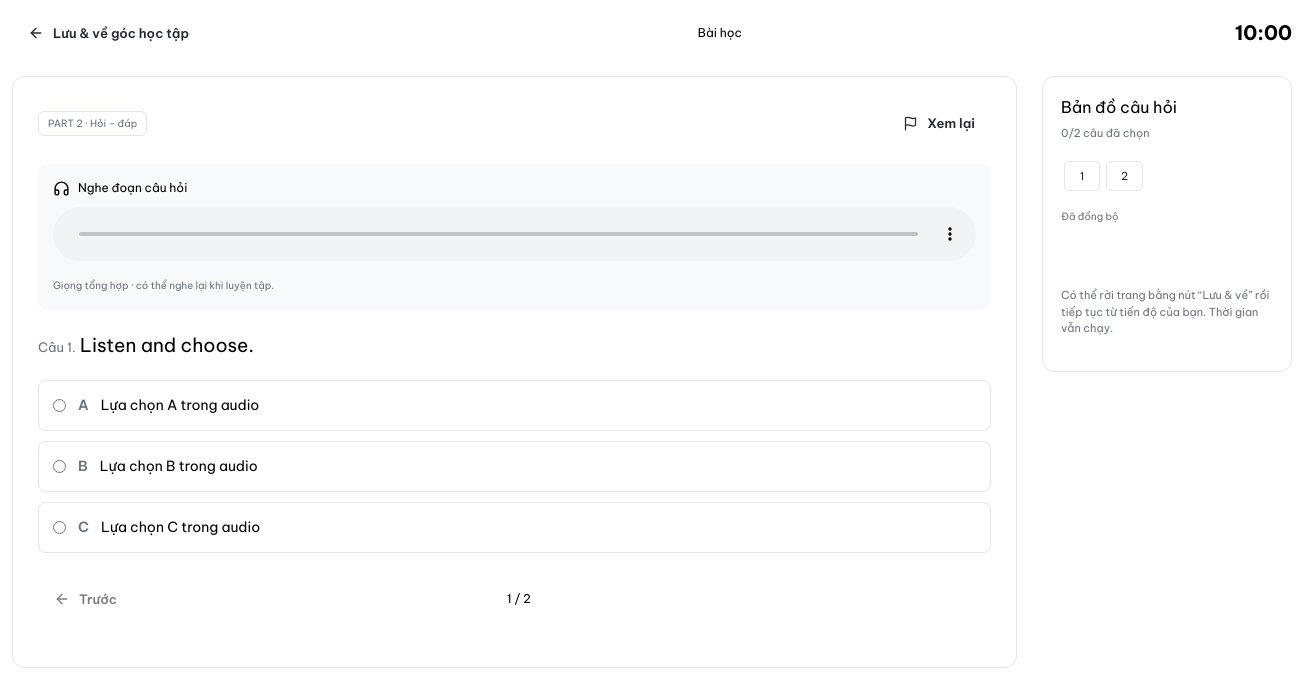
Scenario: keeps unsaved answers visible and prevents exit when saving fails
Click the radio button labelled "C Lựa chọn C trong audio".
click(60, 528)  # box [53,521,66,534]
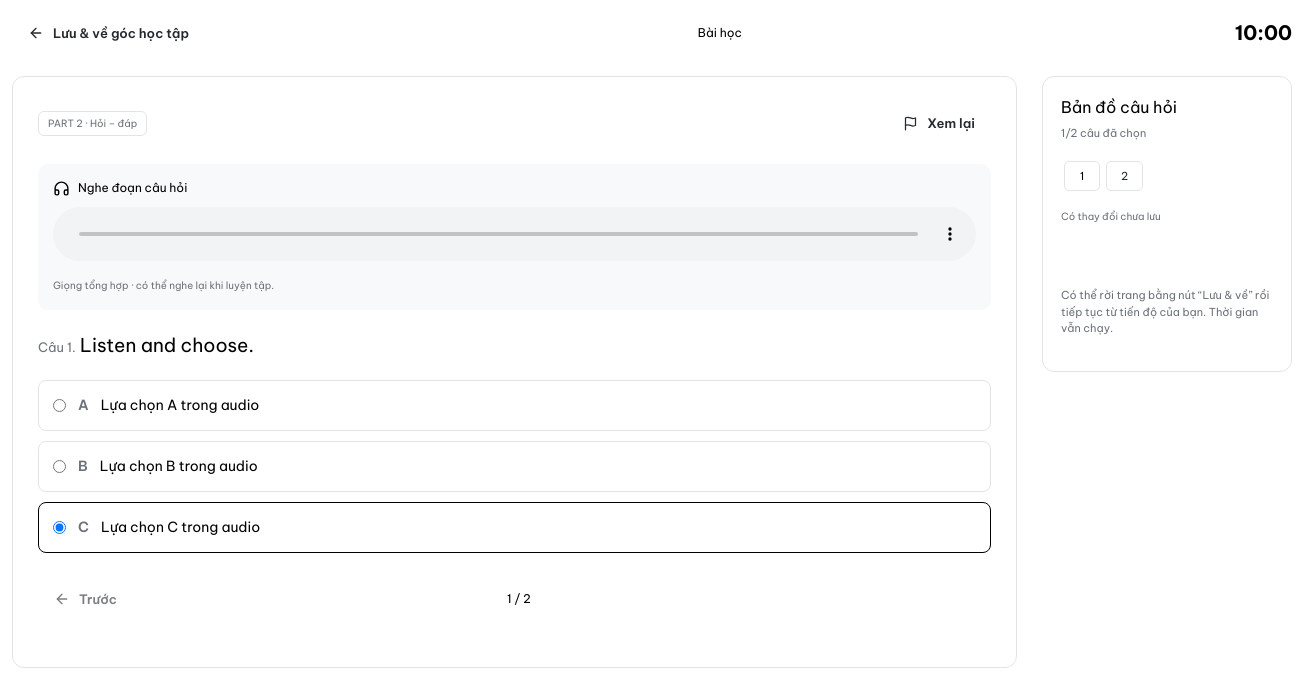
Click the button "Lưu & về góc học tập".
click(109, 33)  # box [12,12,205,54]
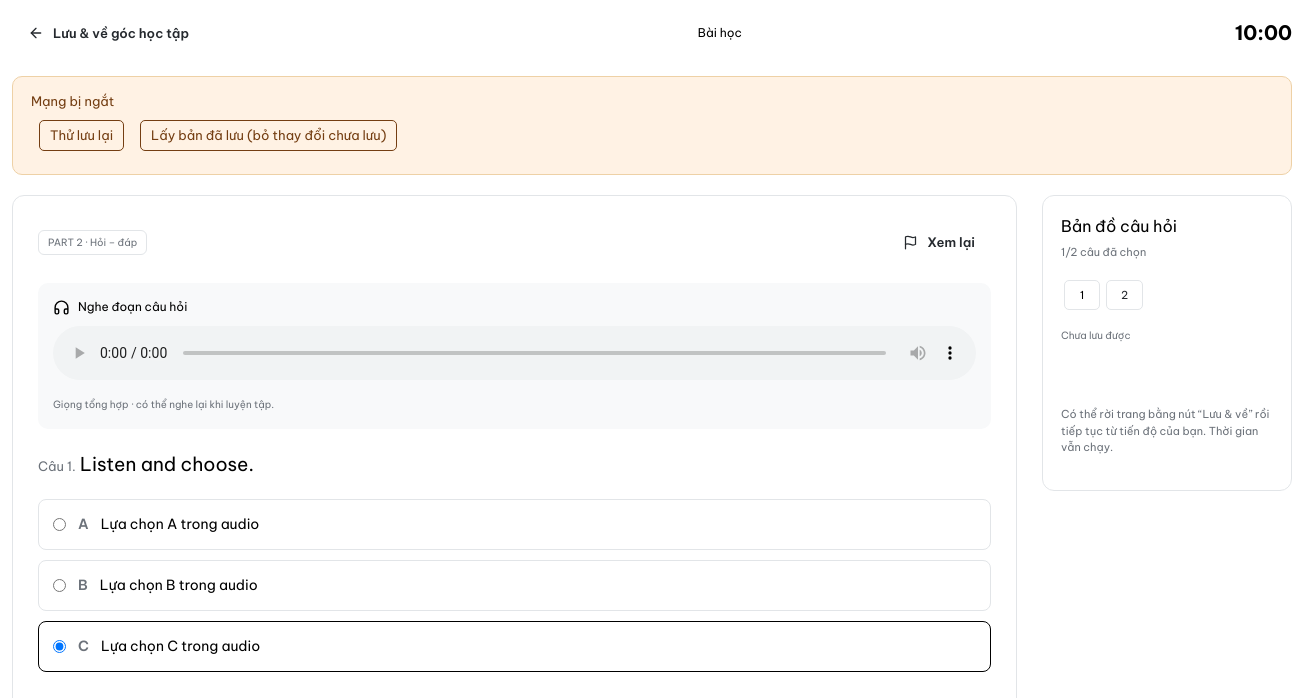
Expected: the radio button labelled "C Lựa chọn C trong audio" is checked, [53,640,66,653]
Expected: the text "Mạng bị ngắt" is shown, [31,93,114,109]
